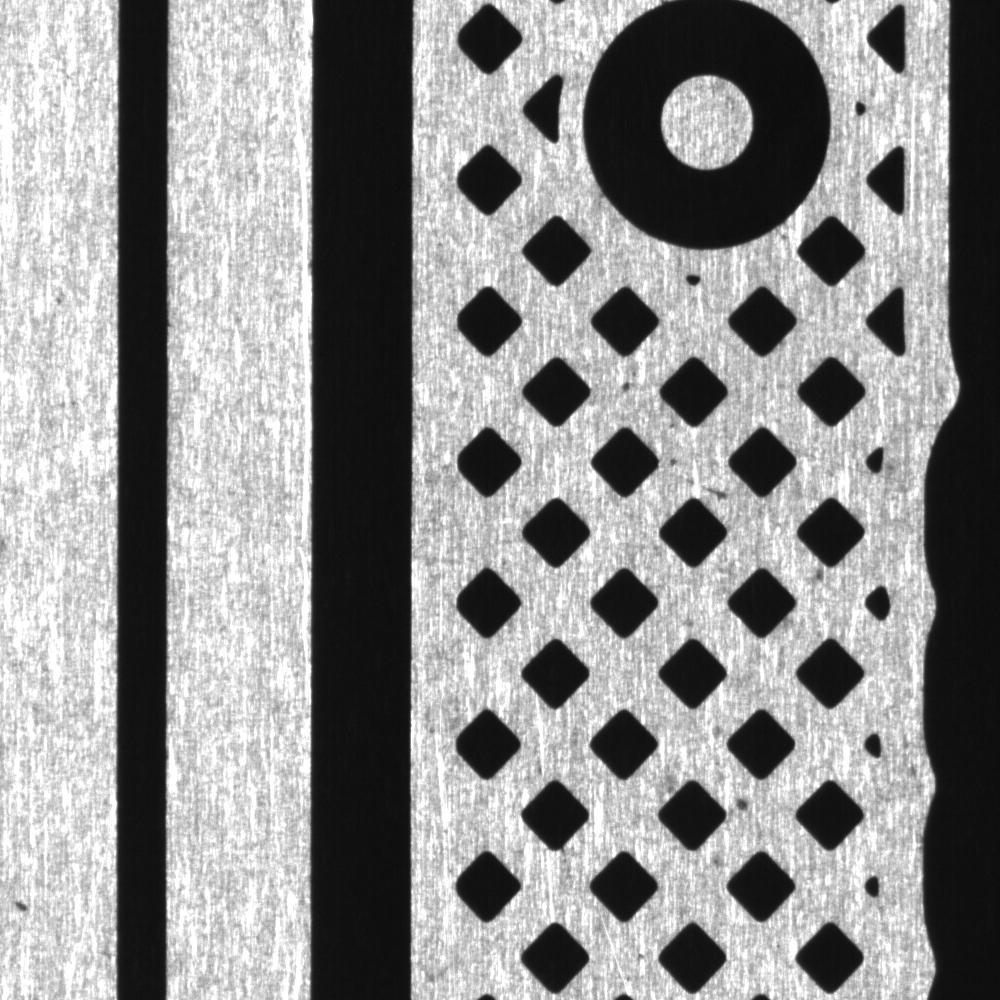Etching: (664, 448, 738, 506), (1, 876, 50, 928), (603, 362, 654, 406), (728, 778, 767, 823)
